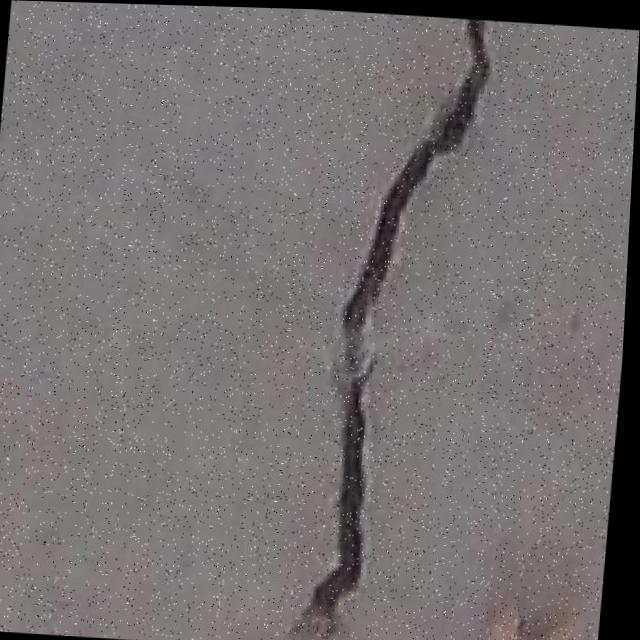Crack: (286, 7, 502, 640)
